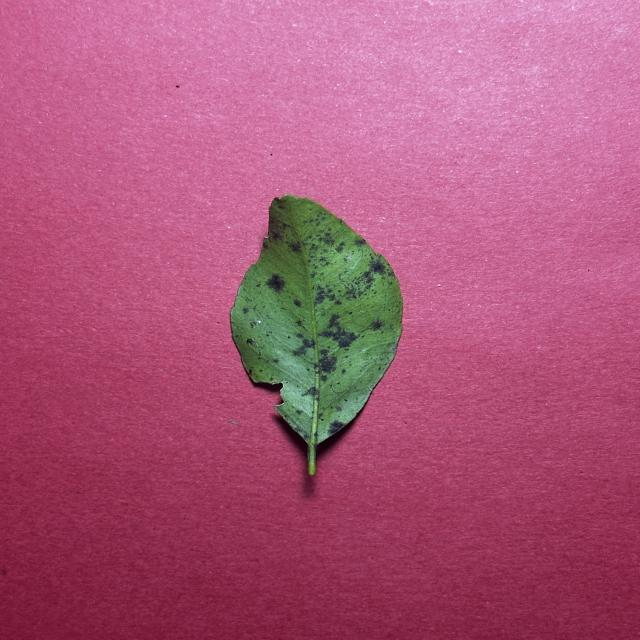sooty_mold: (231, 195, 403, 474)
